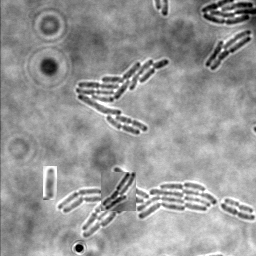Dividing: (219, 204, 255, 222), (223, 199, 253, 215), (43, 166, 57, 200)
Microcolony: (57, 167, 216, 238), (75, 59, 169, 136), (204, 30, 251, 72), (200, 1, 255, 26), (101, 172, 136, 211)
